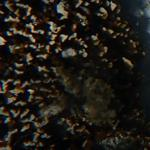dead: (1, 2, 141, 143)
